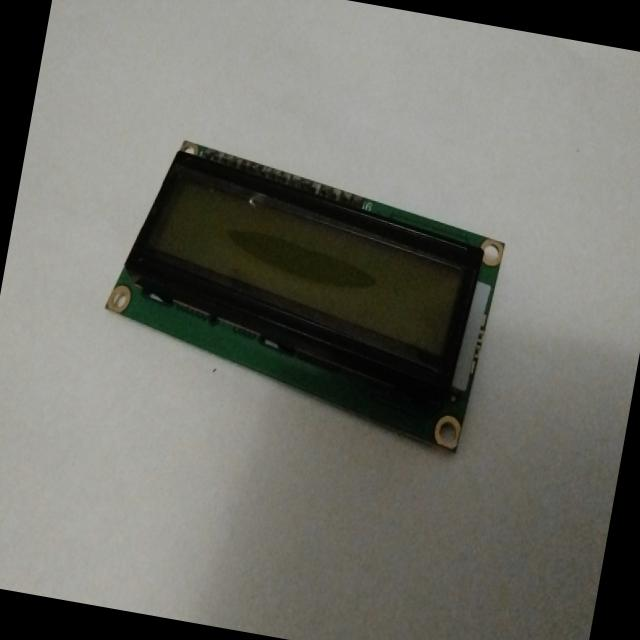lcd: (72, 103, 526, 480)
